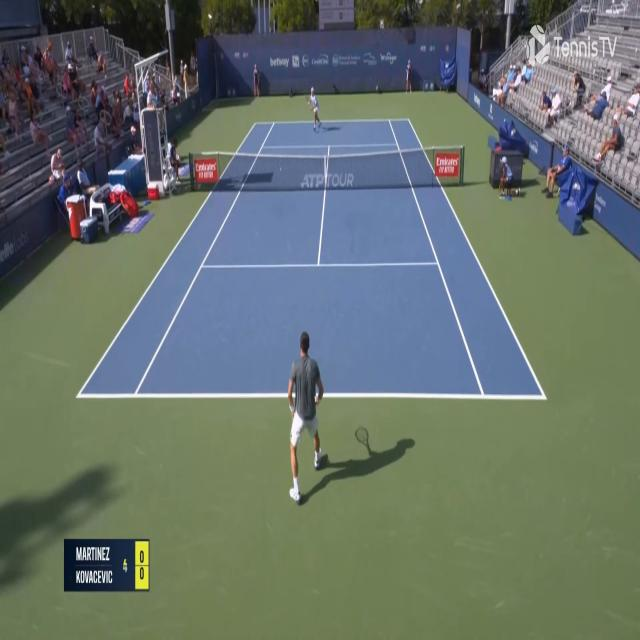tennis-player: (286, 326, 328, 508), (306, 84, 321, 131)
